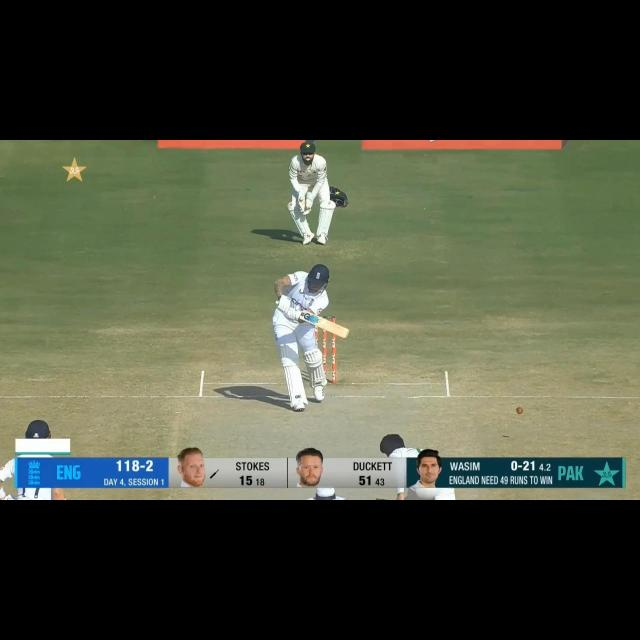bat: (296, 311, 349, 339)
toe: (338, 328, 350, 340)
